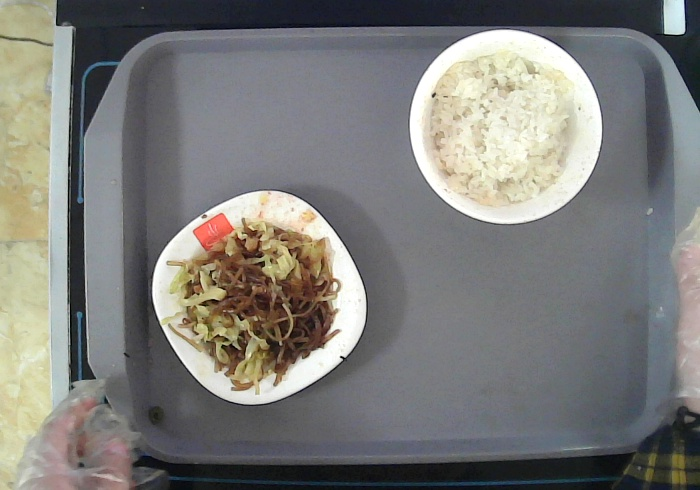SHKJ-Bai_Se_Si_Fang_Cai_Die: (142, 183, 376, 412)
SHKJ-Fan_Wan: (399, 24, 610, 235)
